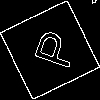P: (25, 25, 79, 71)
